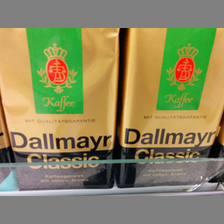coffee: (1, 28, 120, 188), (119, 28, 224, 186)
